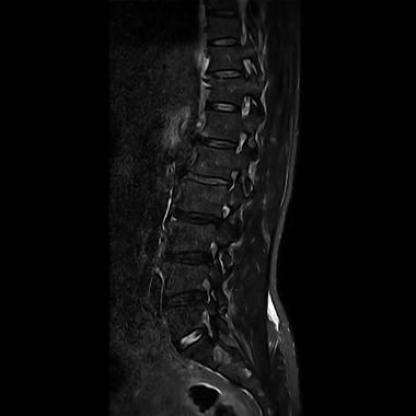Annular Tearrotation: (159, 287, 209, 310)
Disc Bulgerotation: (166, 206, 220, 230), (160, 245, 213, 268), (160, 286, 209, 310)
Disc Protrusionrotation: (186, 171, 231, 191)
